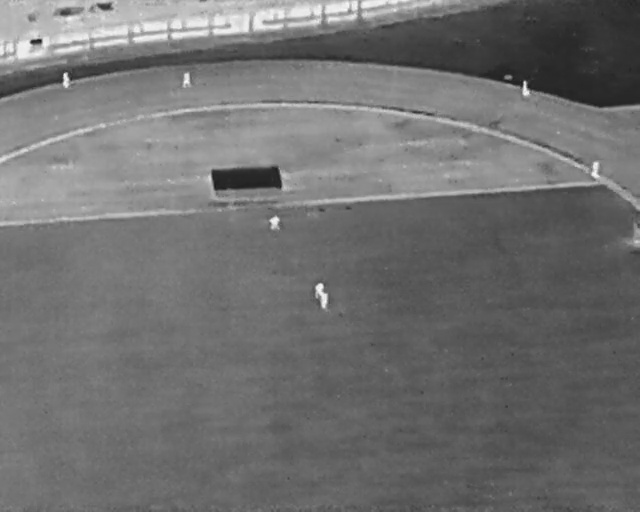Person: (181, 71, 192, 89), (591, 160, 601, 179), (270, 215, 280, 231), (320, 292, 329, 309), (315, 282, 324, 299), (62, 71, 70, 89), (522, 80, 530, 96)
